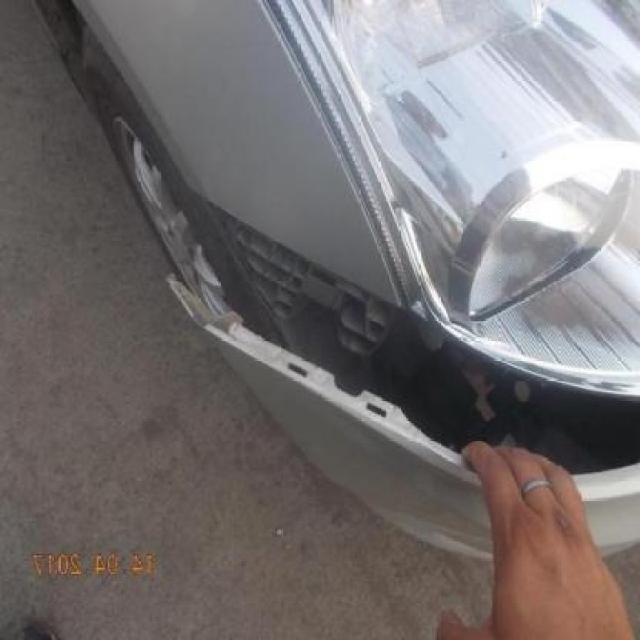damage: (165, 188, 638, 479)
